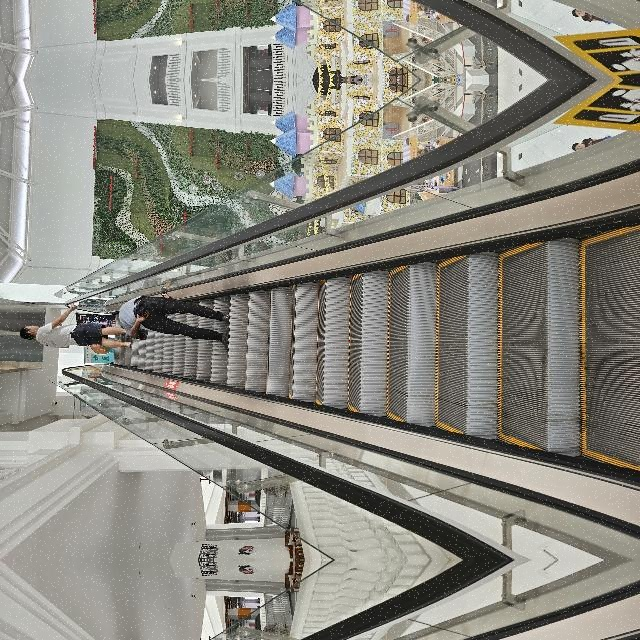person: (209, 198, 266, 310), (210, 100, 257, 212), (210, 0, 257, 60), (409, 430, 425, 469)
stair: (86, 313, 337, 640), (86, 401, 337, 640)
